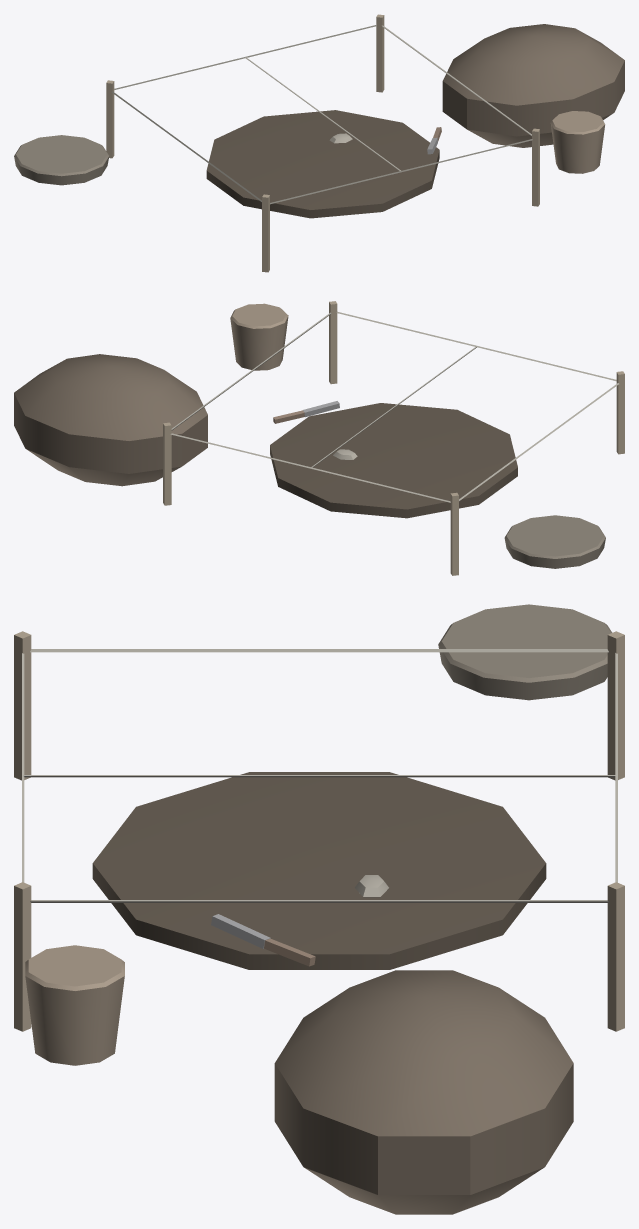
Rendered from dig_site.gltf.
The picture shows the model from 3 angles, top to bottom: view 1: azimuth 30°, elevation 25°; view 2: azimuth 150°, elevation 25°; view 3: azimuth 270°, elevation 25°; orthographic projection. The views are drawn at different scales.
Visible parts, largest first — view 1: Body; view 2: Body; view 3: Body.
Part boxes in pixels (box(x1,y1,x2,y2)): Body: box(14, 14, 624, 272); Body: box(14, 301, 624, 575); Body: box(14, 604, 624, 1214).
Bounding box in the file's own units: 3.56 × 0.65 × 1.75.
